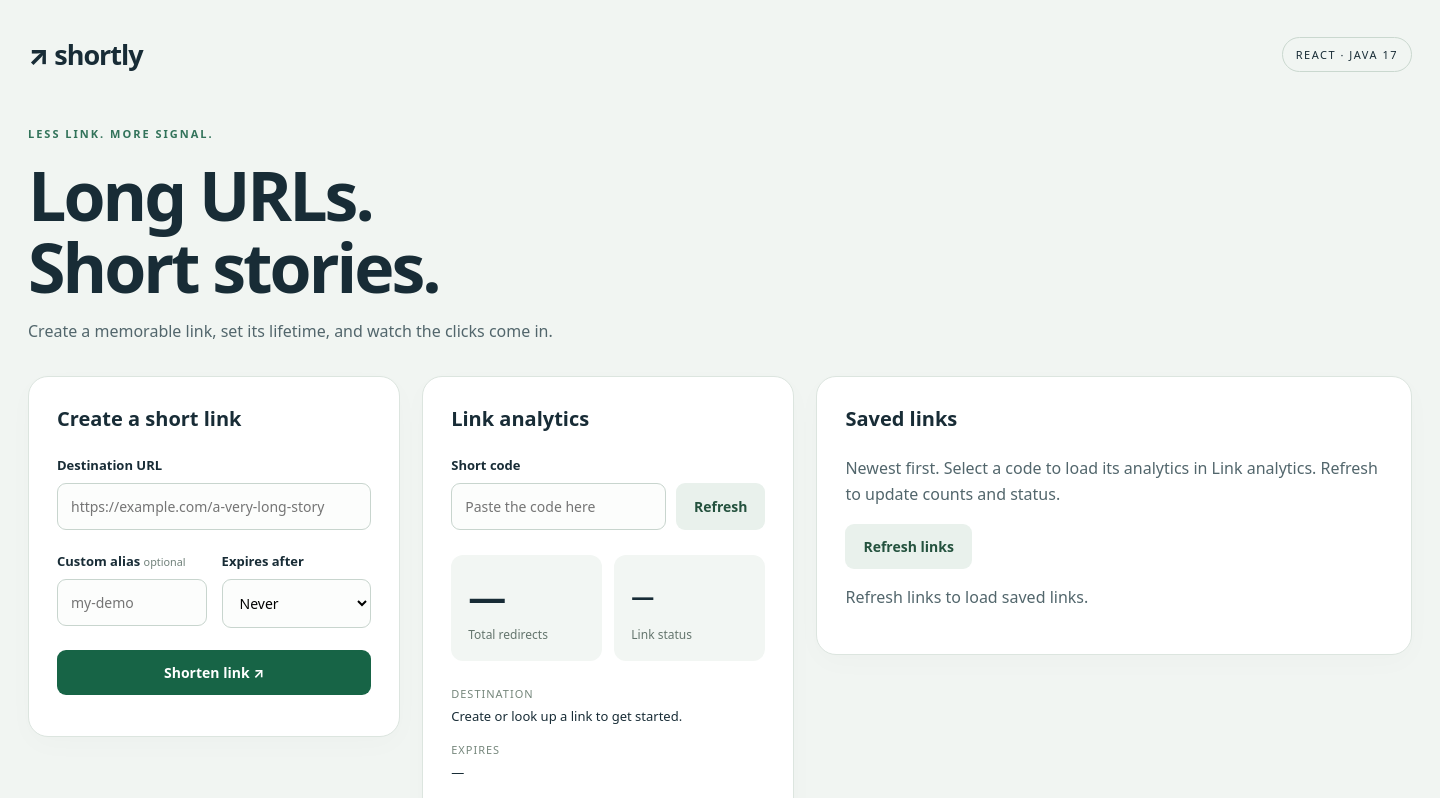
Test: React shortener workflows › shows API errors without displaying a success result
Type "https://example.com" into the field labelled "Destination URL" at (214,507), box left=57, top=483, right=371, bottom=530
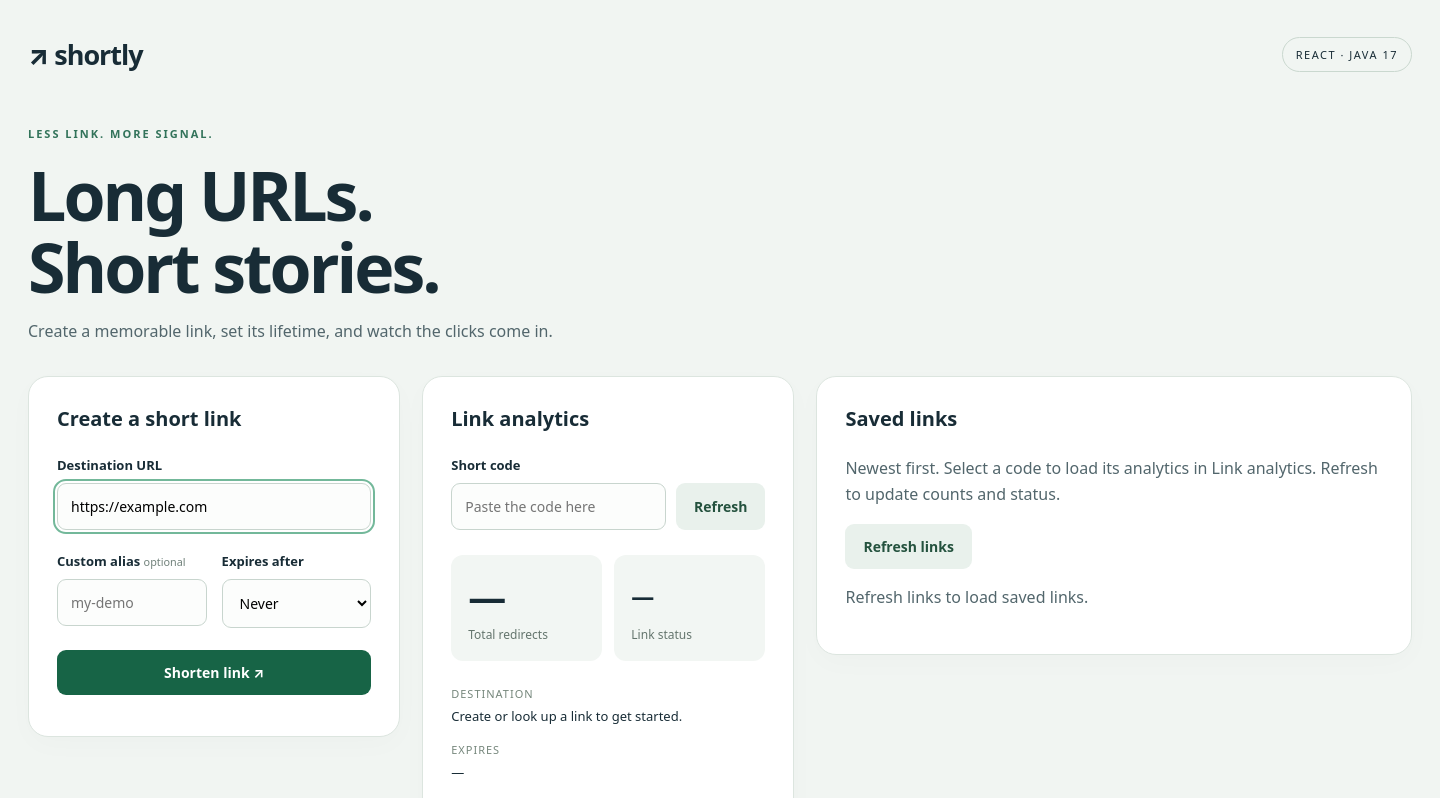
Click the button "Shorten link ↗" at (214,673), box left=57, top=650, right=371, bottom=695
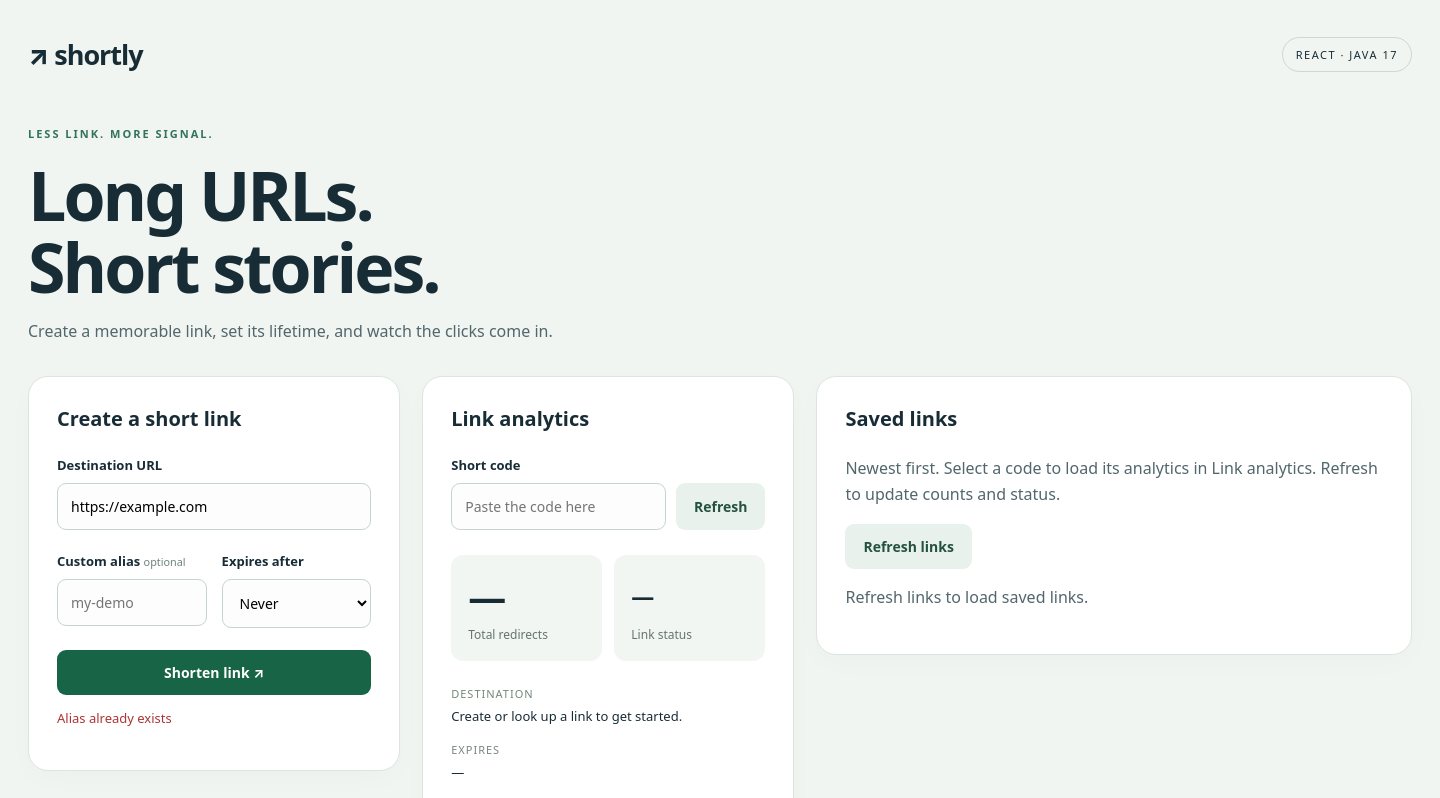
expect the text "Alias already exists" is shown: met, box left=57, top=709, right=172, bottom=727
